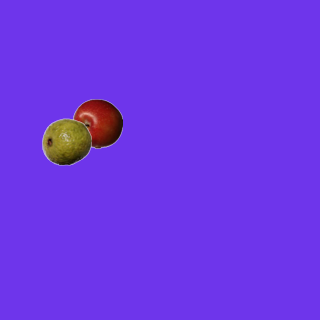Apple Braeburn: (72, 98, 122, 148)
Guava: (41, 116, 91, 166)
